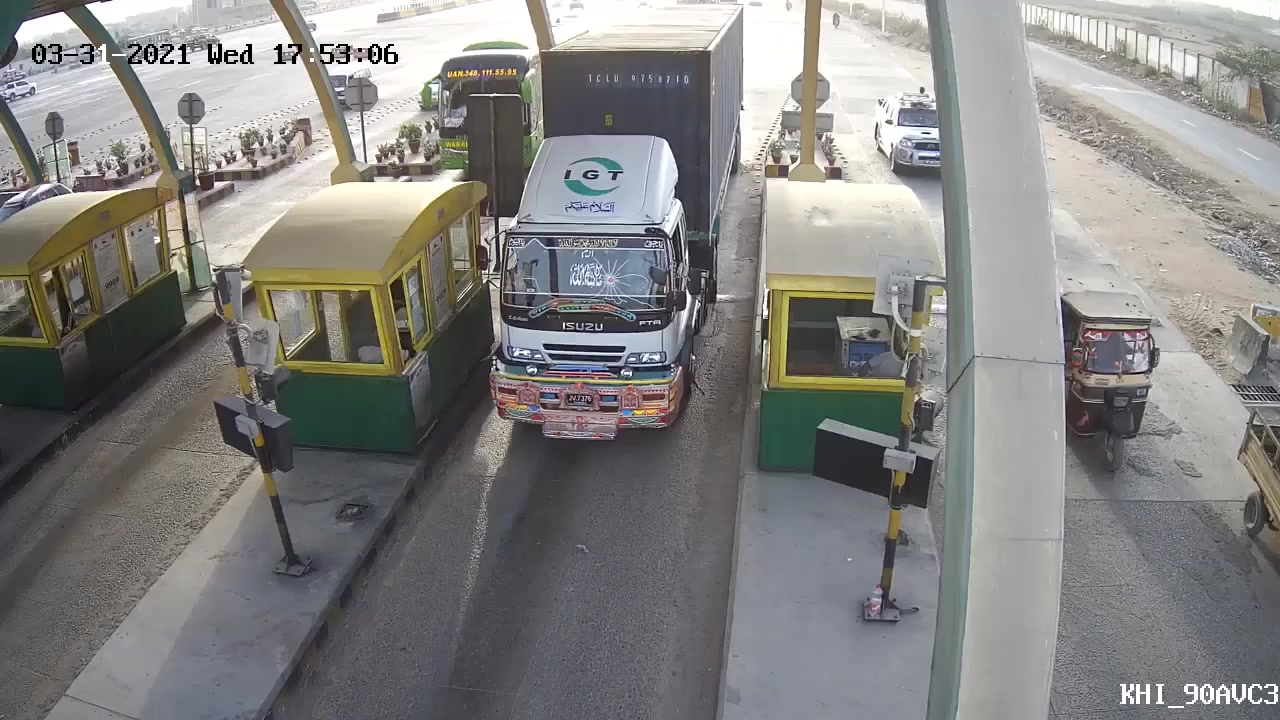F6: (463, 1, 757, 479)
